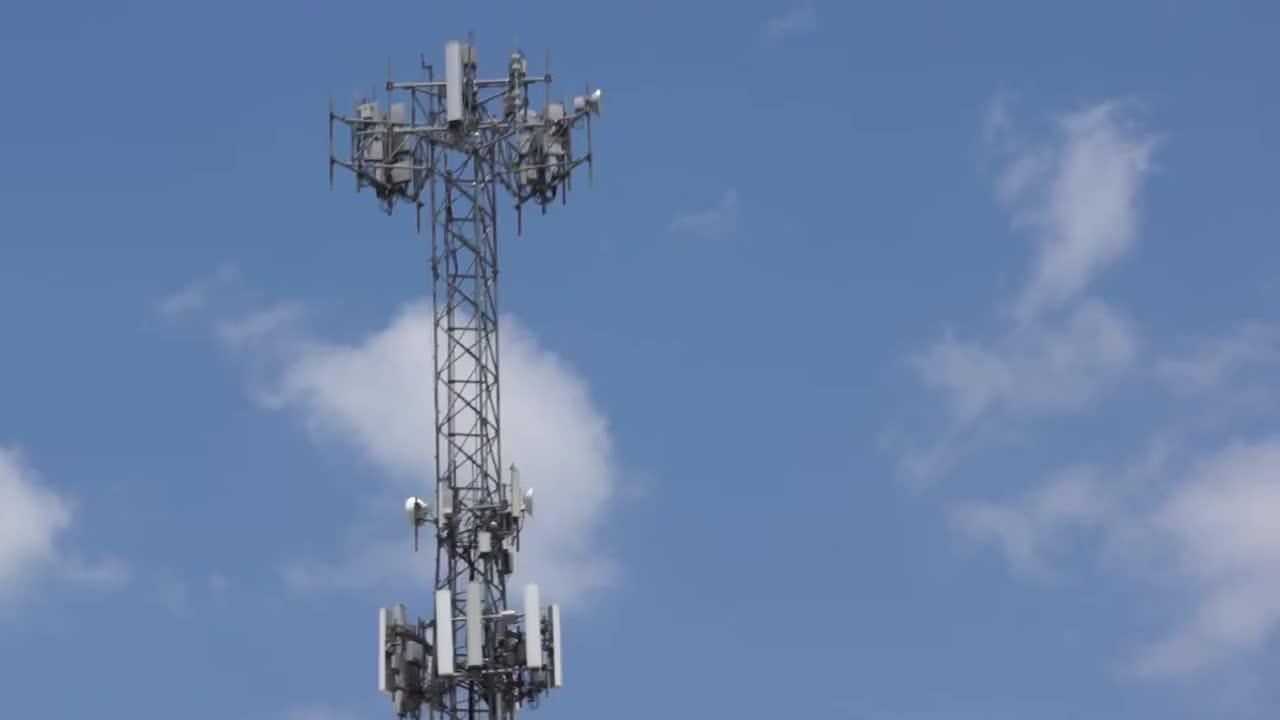Microwave Antenna: (569, 85, 610, 119), (403, 489, 431, 531), (521, 487, 544, 522)
antenna: (438, 38, 468, 128), (462, 577, 490, 669), (433, 586, 459, 678), (524, 585, 546, 672), (502, 457, 529, 526), (377, 607, 397, 692), (549, 602, 565, 694)
